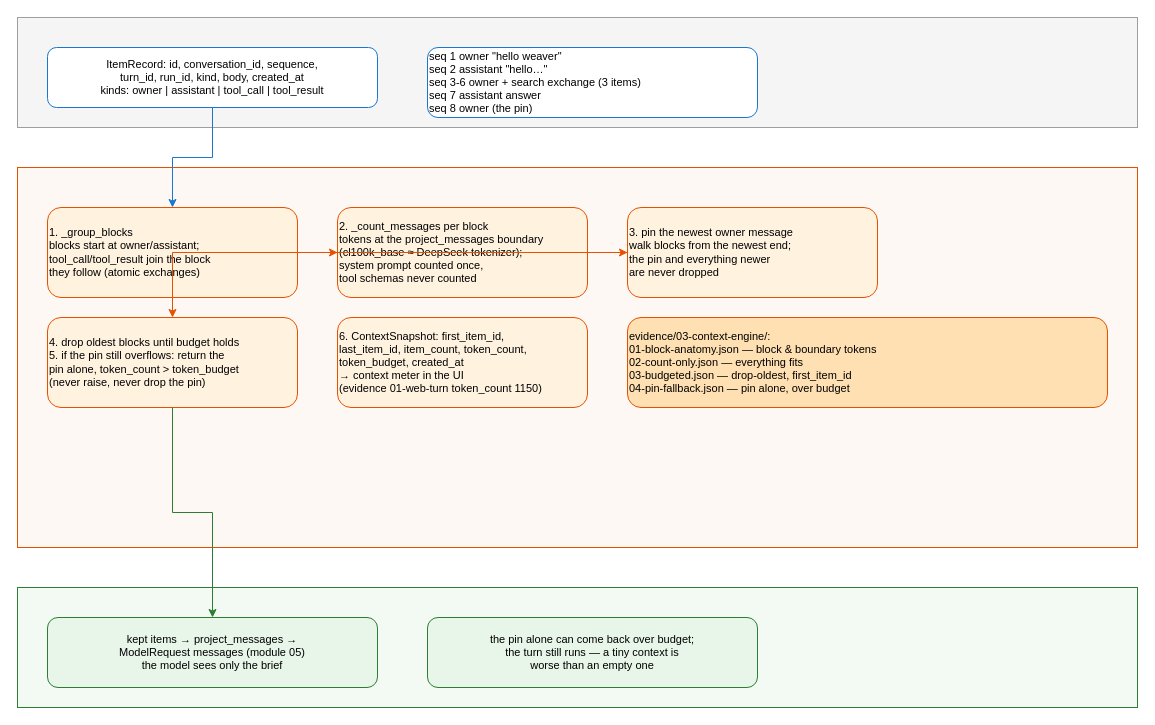
This 1155x725 diagram has some shape labels left out. Each missing label, with the box of its shape:
ASSEMBLER INTERNALS (conversation/assembler.py): (16, 166, 1138, 548)
INPUT: the conversation store (conversation_item rows): (16, 16, 1138, 128)
OUTPUT: the working brief + snapshot: (16, 586, 1138, 708)
